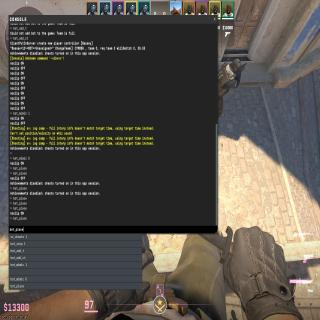CT-Body: (218, 58, 242, 119)
CT-Head: (230, 59, 241, 72)
